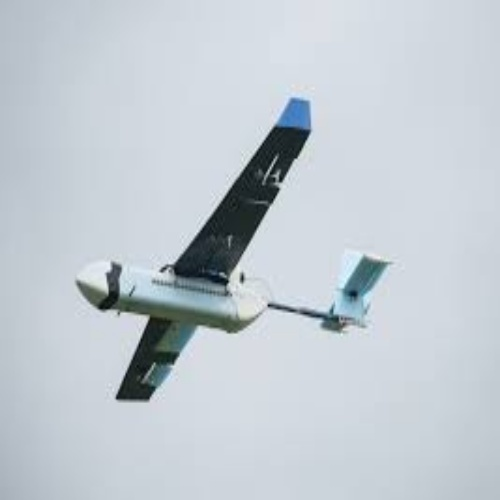uav: (74, 92, 392, 404)
